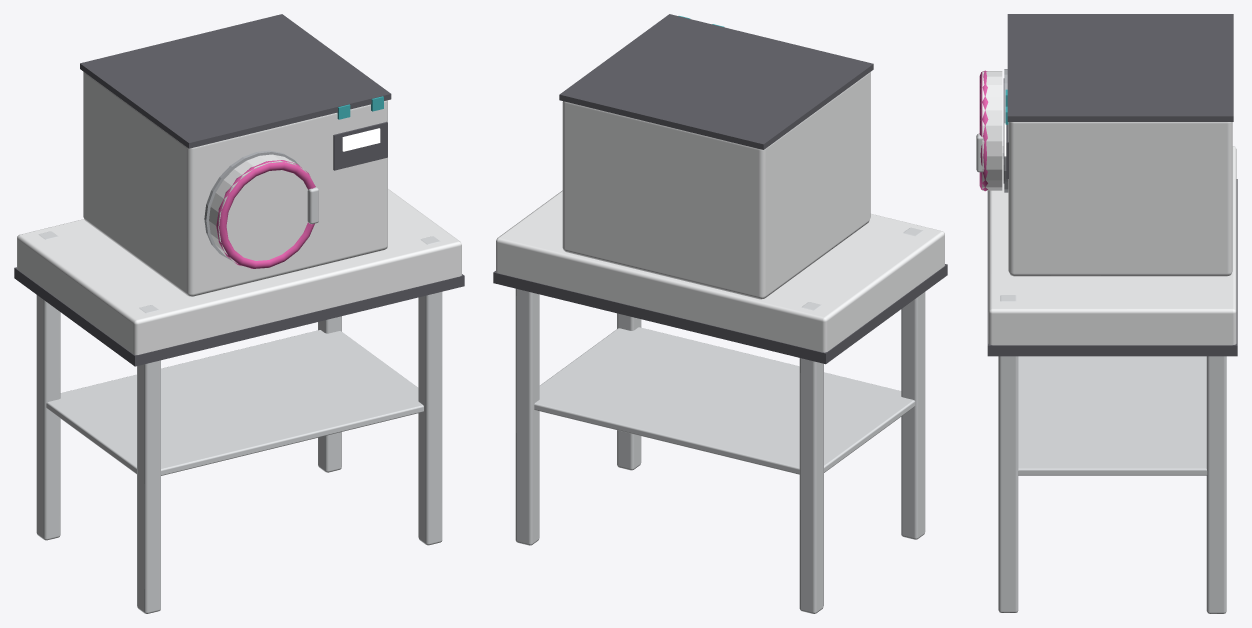
Rendered from tattoo-and-piercing-studio-autoclave-bench-8047d595__34534.glb.
3 views of the same model, side by side, from view 1: azimuth 30°, elevation 25°; view 2: azimuth 150°, elevation 25°; view 3: azimuth 270°, elevation 25° (orthographic). The views are drawn at different scales.
Parts seen in each view (by area): view 1: autoclave-bench, door-autoclave/white, door-autoclave/magenta; view 2: autoclave-bench; view 3: autoclave-bench, door-autoclave/white, door-autoclave/magenta.
Boxes of the visible parts, bbox=[...] form: autoclave-bench: bbox=[14, 14, 464, 613]; door-autoclave/white: bbox=[209, 154, 315, 269]; door-autoclave/magenta: bbox=[216, 160, 315, 268]; autoclave-bench: bbox=[493, 14, 947, 613]; autoclave-bench: bbox=[987, 14, 1237, 613]; door-autoclave/white: bbox=[982, 71, 1002, 190]; door-autoclave/magenta: bbox=[979, 70, 988, 191].
Size of the model in its own units: 0.984 by 1.31 by 0.652.
